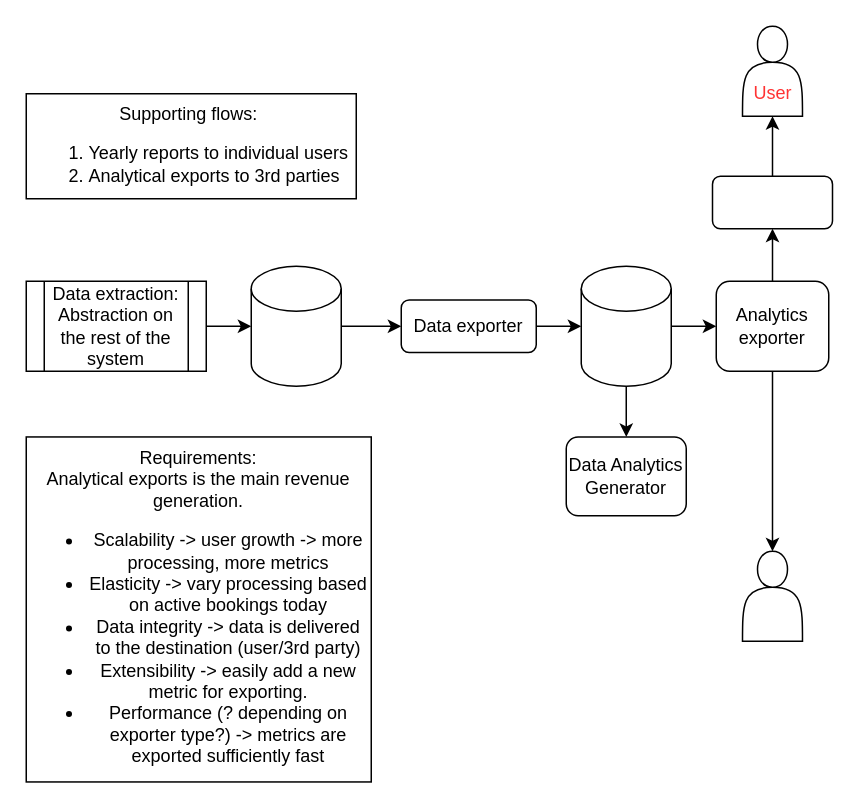
Image size: 860x812. Some labels were removed from this diagram. Here are the shapes that lost their labels. From the top down, the centre of each, then its label:
At [771,202]: "Front-end".
At [295,325]: "Booking storage".
At [625,325]: "Analytics storage".
At [771,595]: "3rd party".
